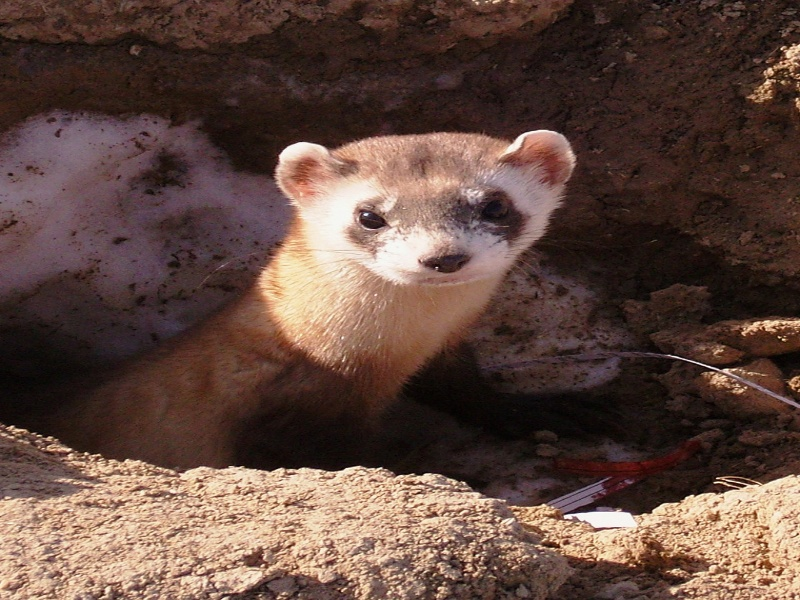minkish: (42, 123, 583, 489)
